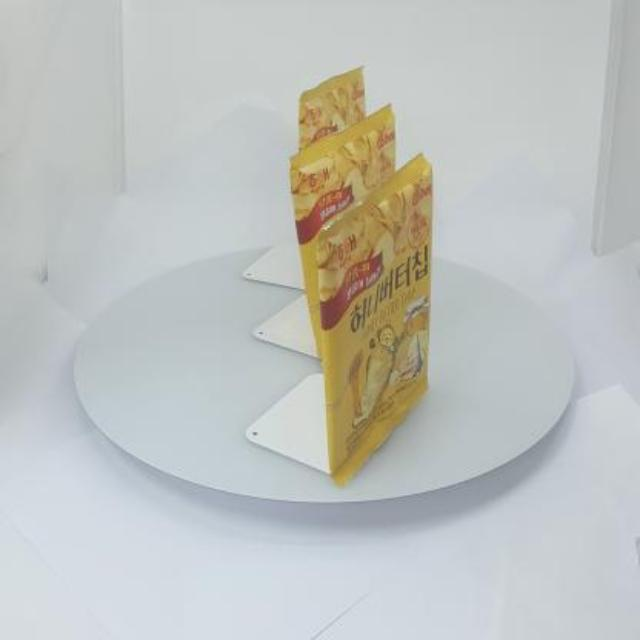snack_bag: (277, 51, 441, 501)
